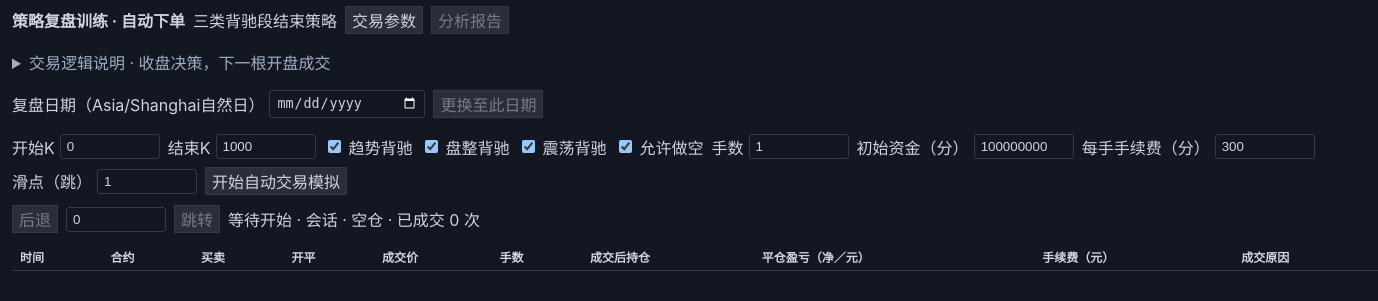
Test: online strategy training panel › creates only start prefix, advances backend, and views history without creating a new session
Click the button "开始自动交易模拟" at (276, 181), box [205,167,347,195]
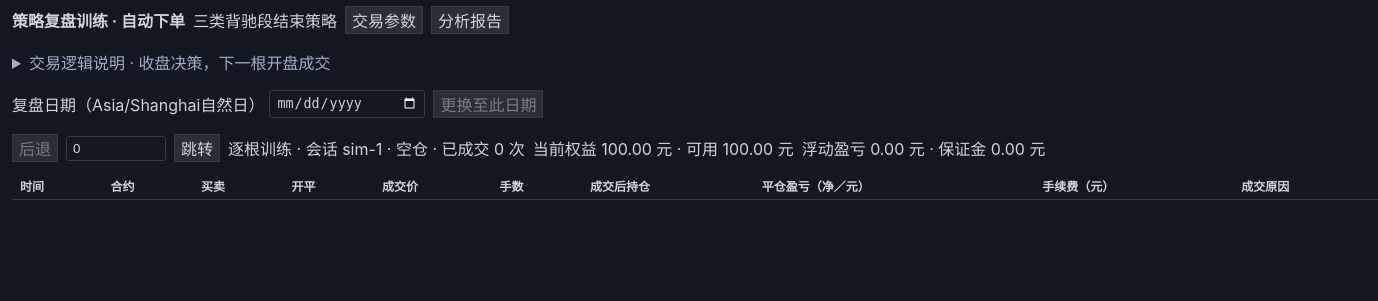
Expected: the text "当前权益 100.00" is shown, [533,139,794,159]
Replace the text in the number field named "模拟跳转K线" with "6" at (116, 148), box [66,136,166,160]
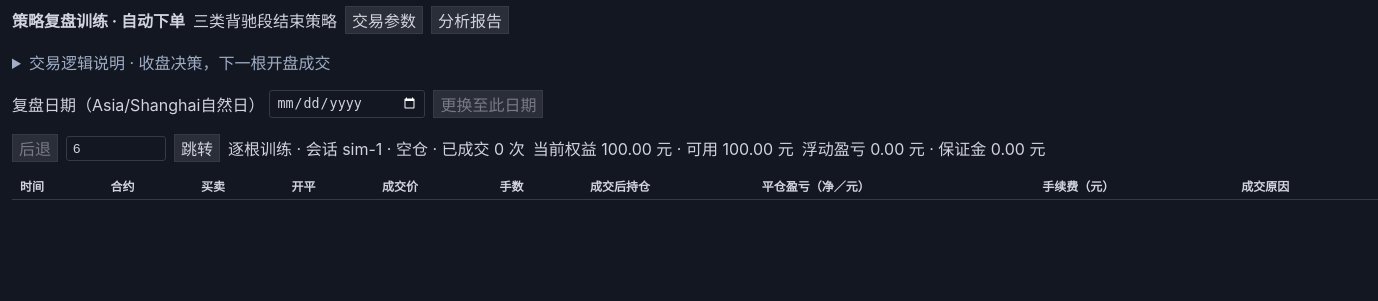
Click the button "跳转" at (197, 148), box [174,134,220,162]
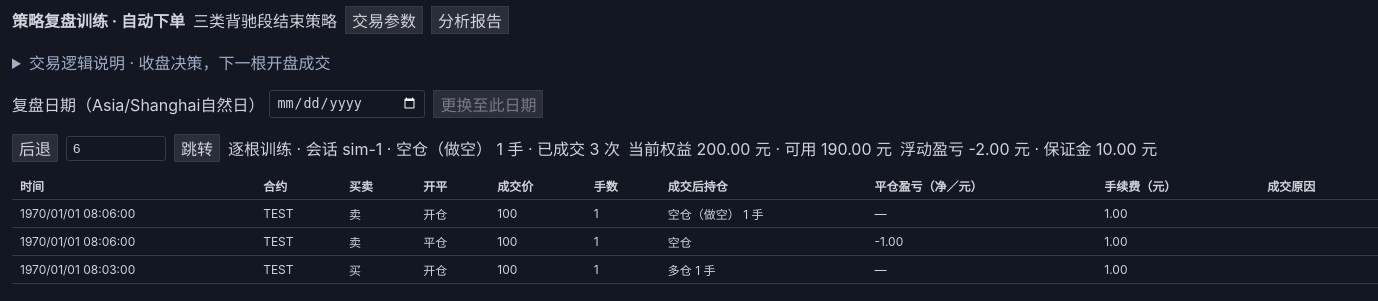
Expected: the text "已成交 3 次" is shown, [228,139,620,159]
Expected: the text "空仓（做空） 1 手" is shown, [228,139,620,159]
Expected: the row "1970/01/01 08:06:00 TEST 卖 平仓 100 1 空仓 -1.00 1.00" is shown, [12,228,1377,256]
Replace the text in the number field named "模拟跳转K线" with "2" at (116, 148), box [66,136,166,160]
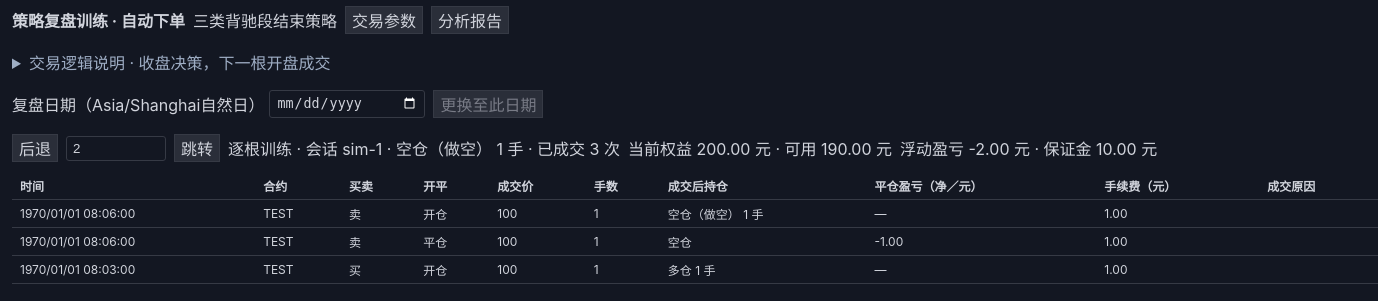
Click the button "跳转" at (197, 148), box [174,134,220,162]
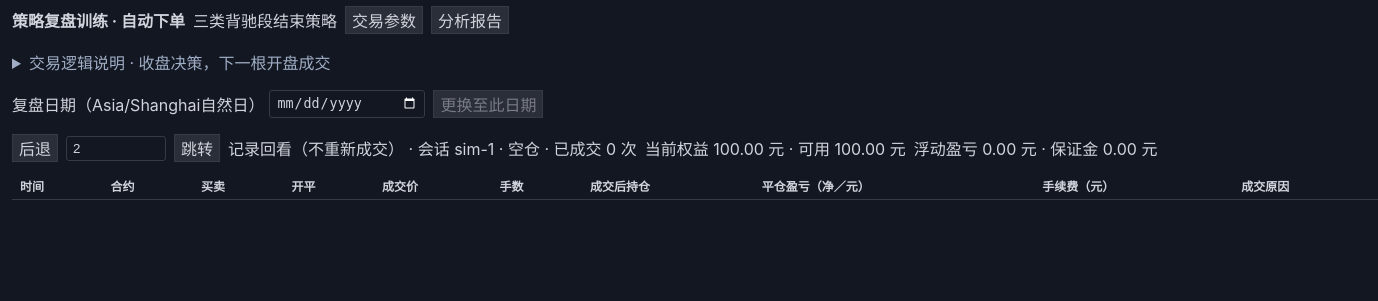
Expected: the text "记录回看" is shown, [228,139,637,159]
Expected: the text "已成交 0 次" is shown, [228,139,637,159]
